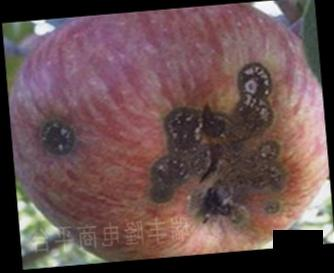rotten apple: (12, 10, 324, 256)
